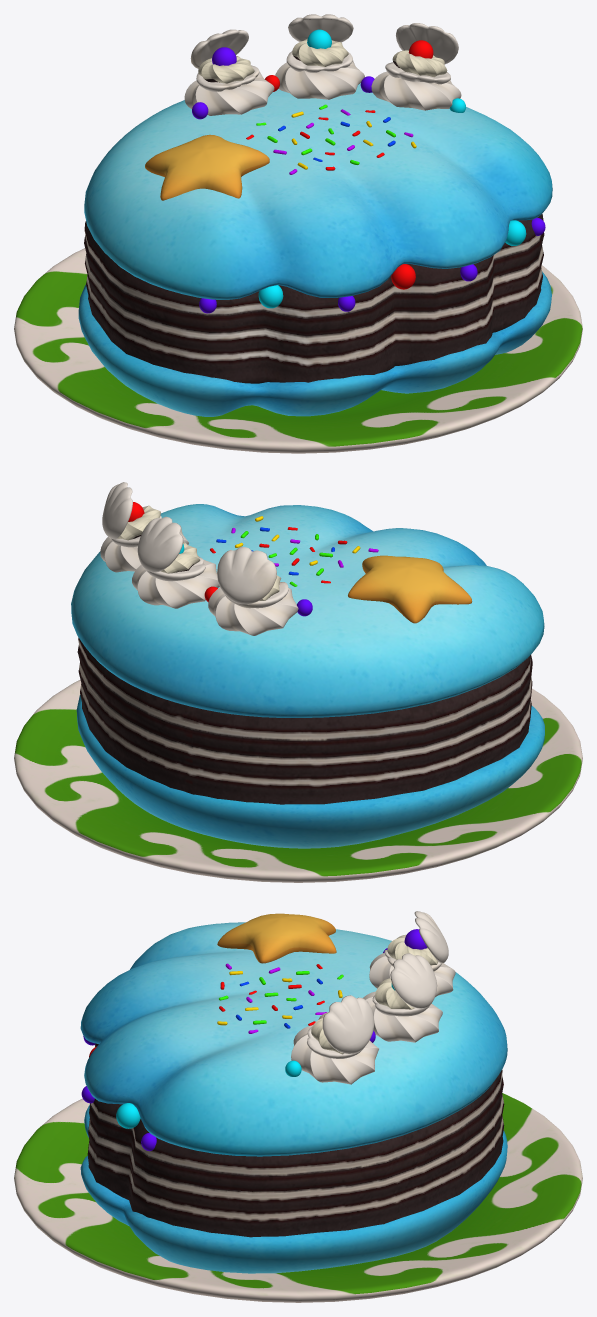
The model's file is toy_cake.glb.
3 views of the same model, one above another, from view 1: azimuth 30°, elevation 25°; view 2: azimuth 150°, elevation 25°; view 3: azimuth 270°, elevation 25° (orthographic).
Parts seen in each view (by area): view 1: Genoise2, Genoise3, pCylinder1, Genoise1, starfish_suger, cream1, cream2, cream3, case3, case2, case1, center2 (+5 smaller); view 2: Genoise2, Genoise3, pCylinder1, Genoise1, starfish_suger, case1, cream3, cream1, case2, case3, cream2, center1 (+2 smaller); view 3: Genoise2, pCylinder1, Genoise3, Genoise1, starfish_suger, cream2, case3, case2, cream1, cream3, case1, center3 (+1 smaller).
Part boxes in pixels (<box>): Genoise2: <box>84,83,552,299</box>; Genoise3: <box>84,214,544,383</box>; pCylinder1: <box>14,248,582,453</box>; Genoise1: <box>78,271,551,416</box>; starfish_suger: <box>145,134,269,200</box>; cream1: <box>275,60,364,99</box>; cream2: <box>371,71,461,110</box>; cream3: <box>184,72,274,115</box>; case3: <box>396,23,458,64</box>; case2: <box>288,14,353,42</box>; case1: <box>190,29,248,68</box>; center2: <box>292,38,348,66</box>; Genoise2: <box>71,504,544,717</box>; Genoise3: <box>77,637,532,804</box>; pCylinder1: <box>14,680,582,882</box>; Genoise1: <box>76,695,544,848</box>; starfish_suger: <box>348,555,472,623</box>; case1: <box>217,547,276,604</box>; cream3: <box>208,587,298,635</box>; cream1: <box>132,556,219,608</box>; case2: <box>137,516,183,572</box>; case3: <box>102,482,132,539</box>; cream2: <box>100,525,188,572</box>; center1: <box>117,505,160,540</box>; Genoise2: <box>80,922,507,1156</box>; pCylinder1: <box>14,1093,582,1302</box>; Genoise3: <box>87,1043,504,1237</box>; Genoise1: <box>80,1104,507,1273</box>; starfish_suger: <box>217,913,336,963</box>; cream2: <box>291,1025,378,1084</box>; case3: <box>322,995,374,1053</box>; case2: <box>390,953,437,1008</box>; cream1: <box>363,991,442,1042</box>; cream3: <box>369,952,455,997</box>; case1: <box>414,911,448,963</box>; center3: <box>387,934,438,965</box>.
Bounding box in the file's own units: 0.0412 × 0.0235 × 0.0412.
Materials: 15 (7 with a texture image).
